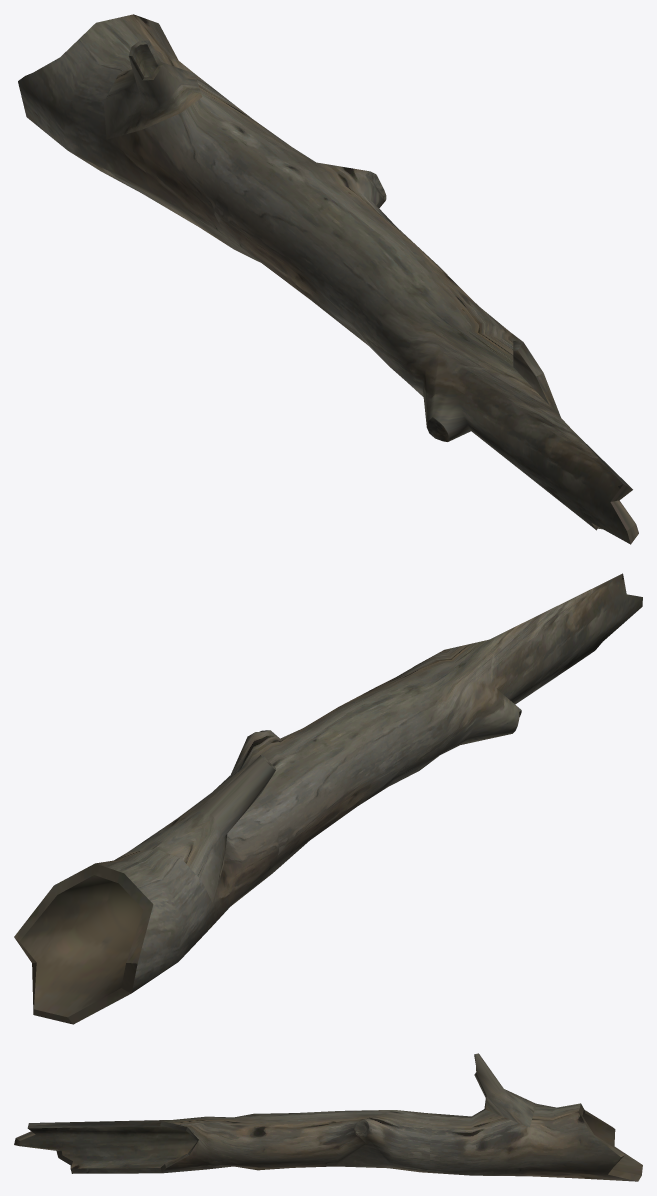
File: log001.fbx
The picture shows the model from 3 angles, top to bottom: view 1: azimuth 30°, elevation 25°; view 2: azimuth 150°, elevation 25°; view 3: azimuth 270°, elevation 25°; orthographic projection. The views are drawn at different scales.
Visible parts, largest first — view 1: log001; view 2: log001; view 3: log001.
Part boxes in pixels (<box>): log001: <box>18,14,638,544</box>; log001: <box>14,573,642,1024</box>; log001: <box>14,1053,642,1181</box>.
Bounding box in the file's own units: 39.46 × 49.8 × 271.
